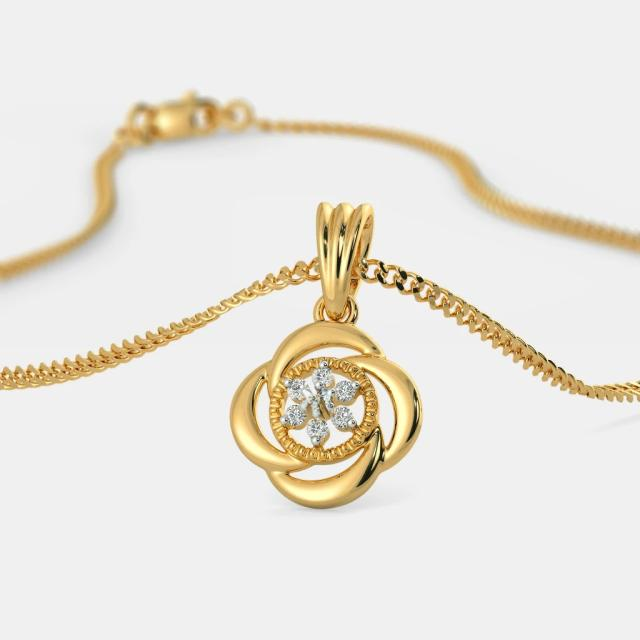missing gem: (303, 387, 334, 417)
